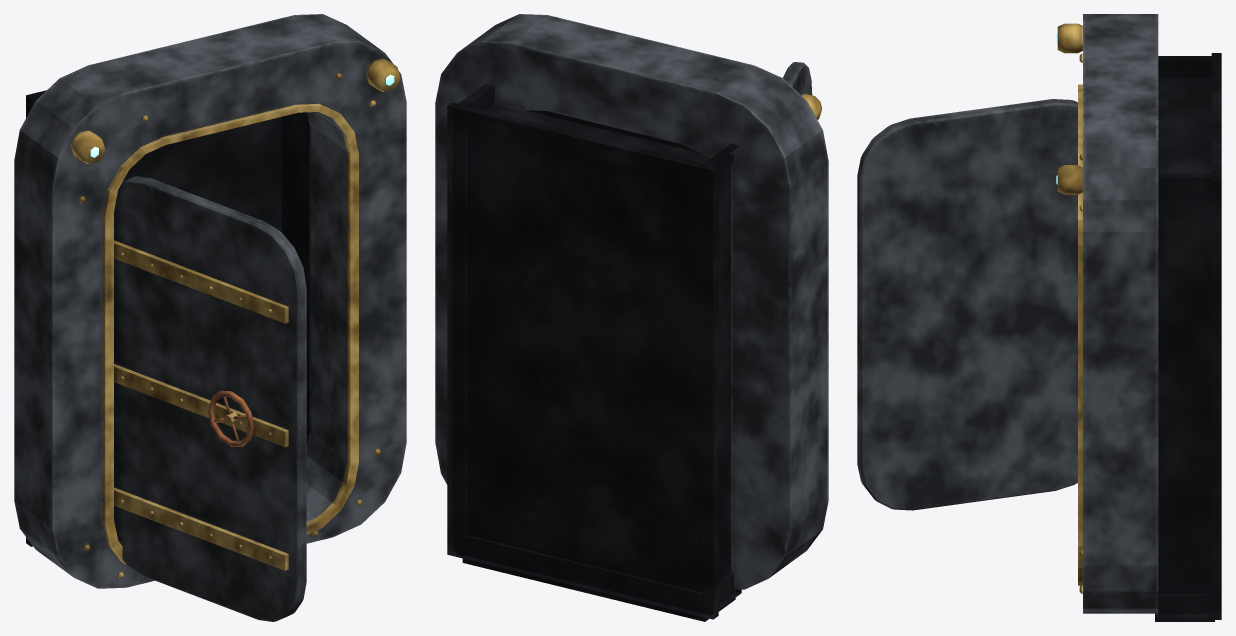
File: ClockLung_Door.fbx
3 renders of one model, left to right at view 1: azimuth 30°, elevation 25°; view 2: azimuth 150°, elevation 25°; view 3: azimuth 270°, elevation 25°, orthographic. The views are drawn at different scales.
Parts seen in each view (by area): view 1: ClockLung_Door; view 2: ClockLung_Door; view 3: ClockLung_Door.
Boxes of the visible parts, <box> form: ClockLung_Door: <box>14,14,406,621</box>; ClockLung_Door: <box>435,14,828,621</box>; ClockLung_Door: <box>857,14,1221,621</box>.
Size of the model in its own units: 2.4 by 3.25 by 2.18.
